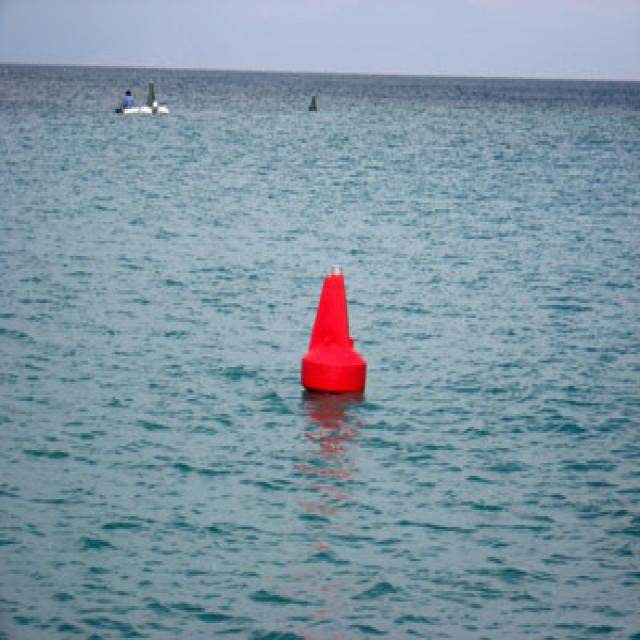Red Buoy: (302, 280, 365, 393)
